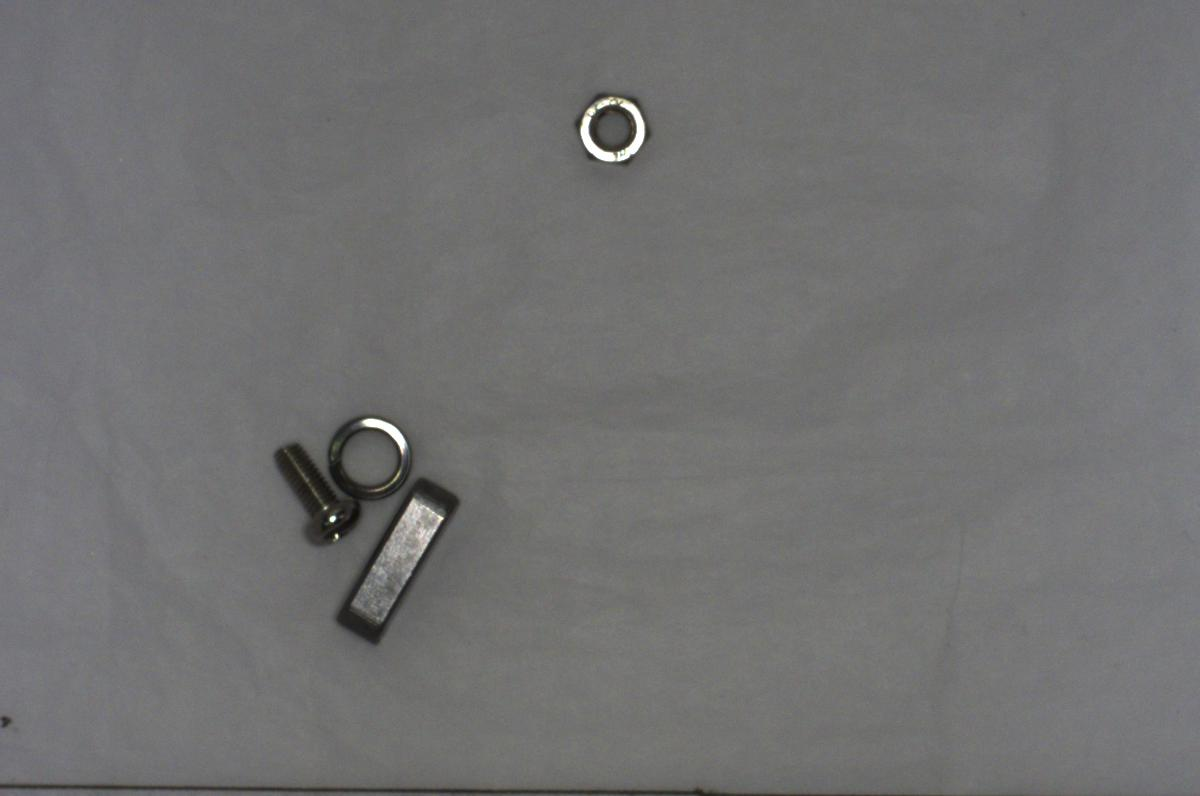Hexagon nut: (571, 86, 655, 170)
Keybar: (325, 475, 465, 640)
Round head screw: (265, 429, 366, 549)
Spring washer: (324, 406, 417, 501)
